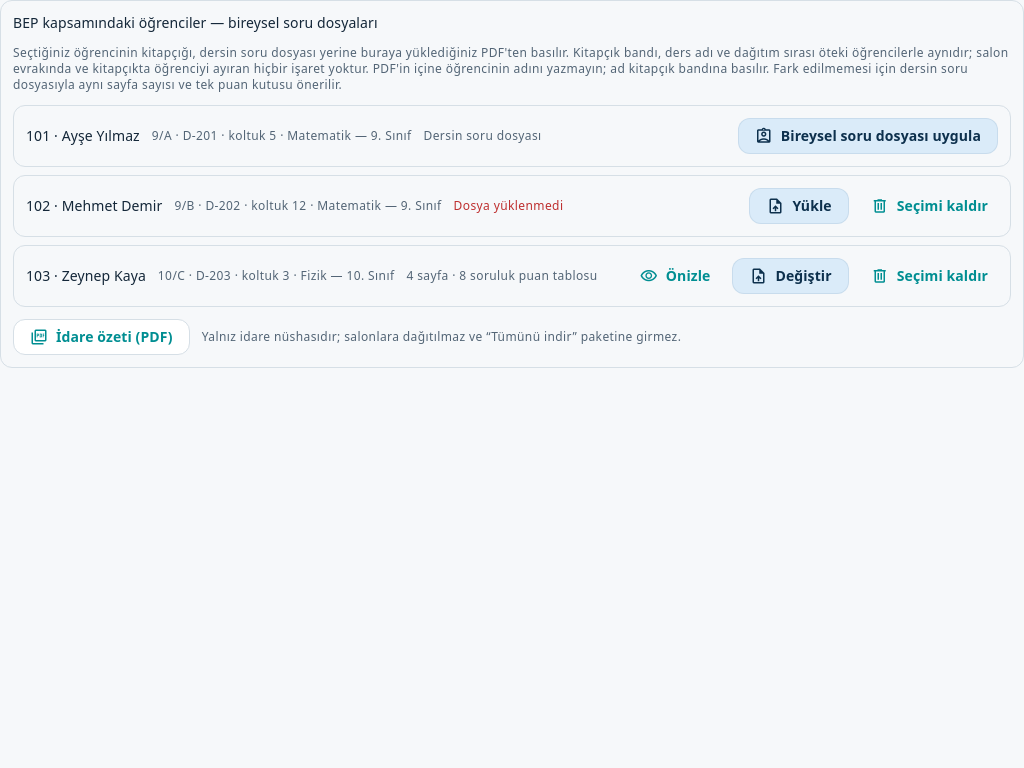
Test: BireyselSorularBolumu — işlemler › kaldırma onayında “Vazgeç” denirse seçim yerinde kalır
Click the button "Seçimi kaldır" in the row of "102". click: (929, 206)
box: [861,188,998,224]
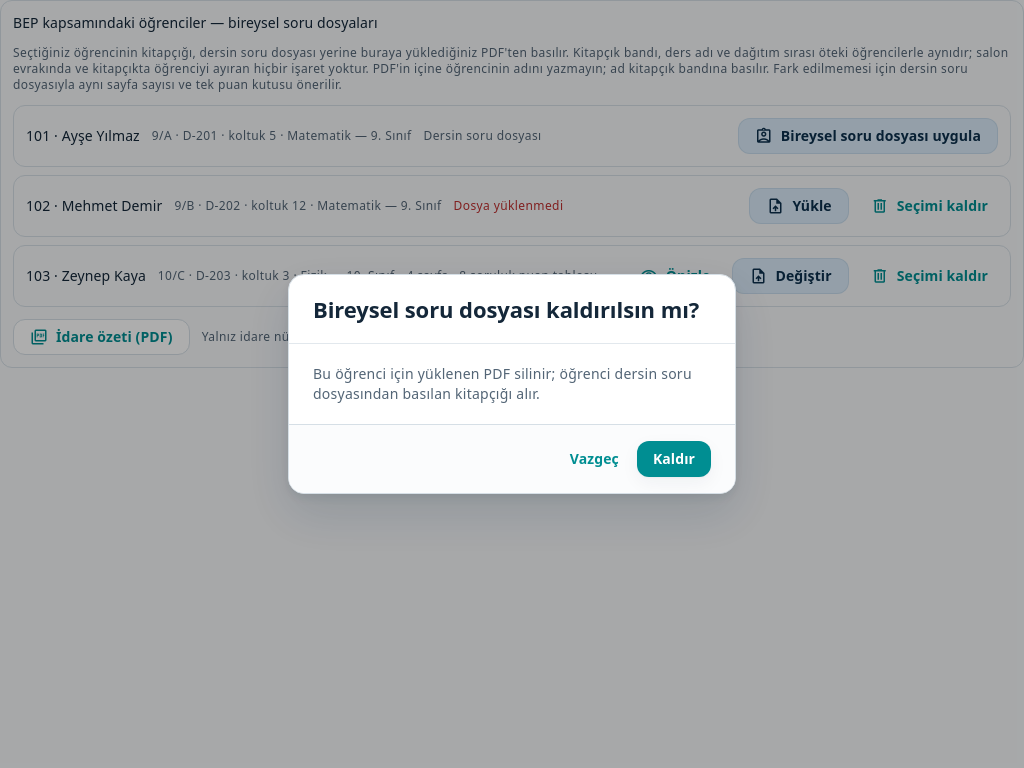
Click the button "Vazgeç". click: (594, 459)
box: [560,441,629,477]
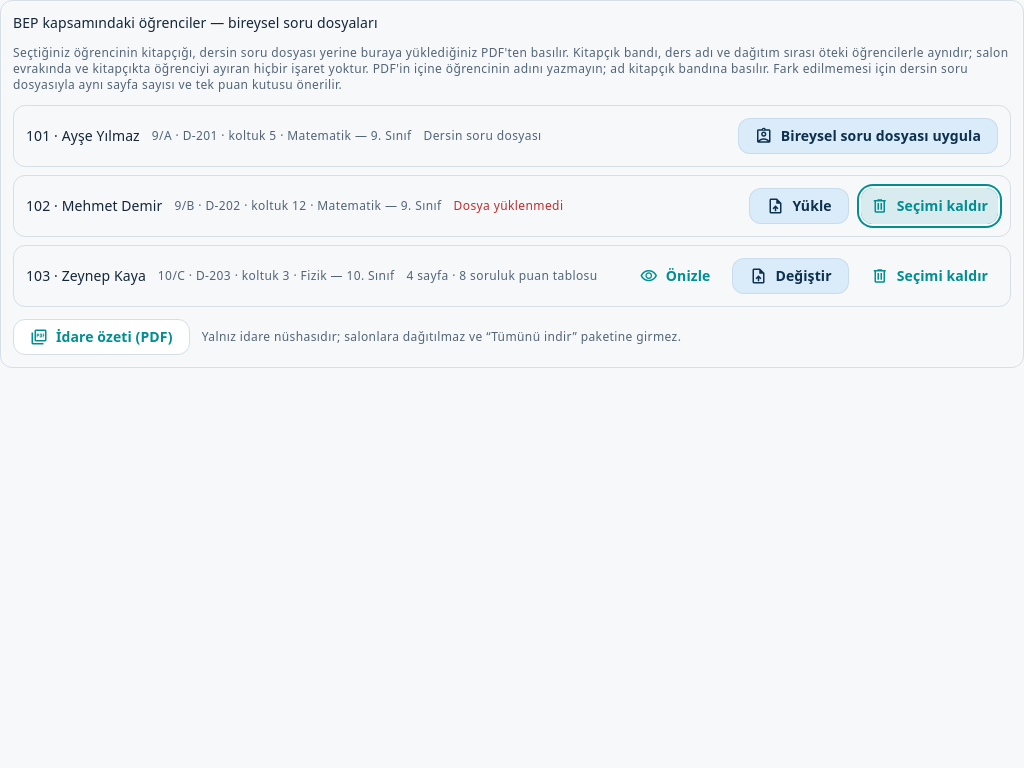
Result: the dialog is gone
